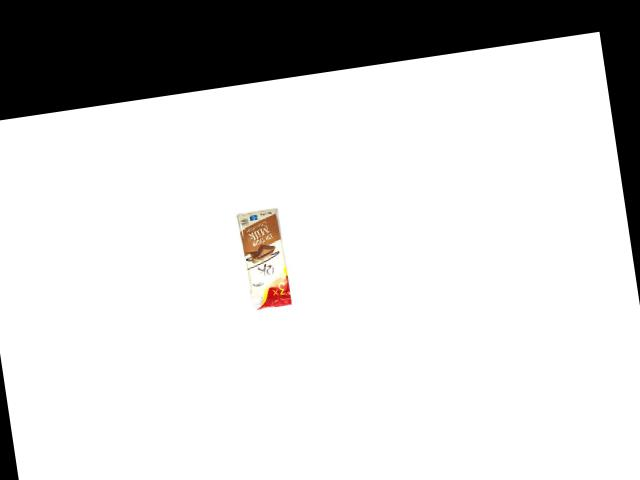chocolate: (235, 209, 295, 313)
